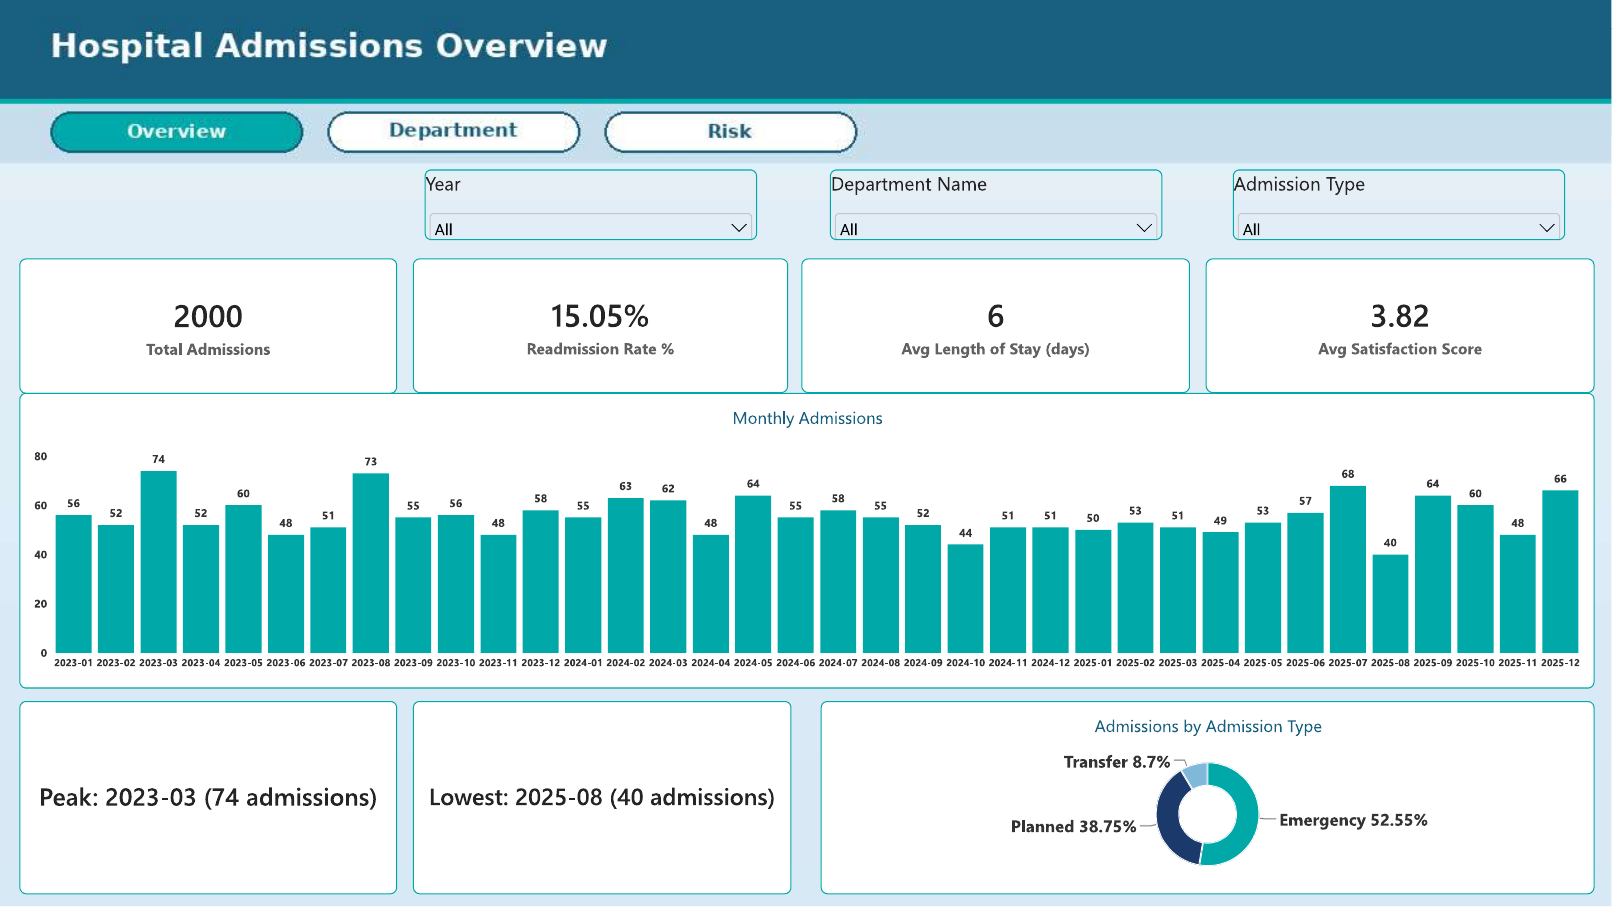

The page's visual inventory and layout, read from the dashboard file:
{"tool":"powerbi","page":{"name":"Overview","canvas":[1920,1080],"ordinal":0},"visuals":[{"type":"card","fields":{"Values":["Calculated_Admission_Table.Total Admissions"]},"box":[22.7,307,450.8,160.5],"z":0},{"type":"pageNavigator","box":[61.7,131.7,959.2,51.5],"z":1000},{"type":"card","fields":{"Values":["Calculated_Admission_Table.Avg Satisfaction"]},"box":[1436.7,306.7,463.1,160.5],"z":2000},{"type":"card","fields":{"Values":["Calculated_Admission_Table.Avg Length of Stay"]},"box":[955.1,306.7,463.1,160.5],"z":3000},{"type":"card","fields":{"Values":["Calculated_Admission_Table.Readmission Rate %"]},"box":[491.9,306.7,446.7,160.5],"z":4000},{"type":"clusteredColumnChart","title":"Monthly Admissions","fields":{"Category":["Date.Year Month"],"Y":["Calculated_Admission_Table.Total Admissions"]},"box":[22.6,467.2,1877.2,352],"z":5000},{"type":"slicer","title":"Admission Type","fields":{"Values":["Admissions.AdmissionType"]},"box":[1468.6,200.6,396.2,84.7],"z":7000},{"type":"donutChart","title":"Admissions by Admission Type","fields":{"Category":["Admissions.AdmissionType"],"Y":["CountNonNull(Admissions.AdmissionType)"]},"box":[977.7,833.6,922.1,230.5],"z":9000},{"type":"card","fields":{"Values":["Calculated_Admission_Table.Lowest Label"]},"box":[491.9,833.6,450.8,230.5],"z":10000},{"type":"card","fields":{"Values":["Calculated_Admission_Table.Peak Label"]},"box":[22.6,833.6,450.8,230.5],"z":11000},{"type":"slicer","title":"Year","fields":{"Values":["Date.Date.Variation.Date Hierarchy.Year"]},"box":[505.8,200.6,396.2,84.7],"z":11001},{"type":"slicer","title":"Department Name","fields":{"Values":["Departments.DepartmentName"]},"box":[989,200.6,396.2,84.7],"z":11002}]}

Visuals, with their boxes in screenshot pixels (x1, y1, x2, y2), scaled from the page's 1920x1080 canvas onto the 1612x907 screenshot:
card - Calculated_Admission_Table.Total Admissions: [19,258,398,393]
pageNavigator: [52,111,857,154]
card - Calculated_Admission_Table.Avg Satisfaction: [1206,258,1595,392]
card - Calculated_Admission_Table.Avg Length of Stay: [802,258,1191,392]
card - Calculated_Admission_Table.Readmission Rate %: [413,258,788,392]
"Monthly Admissions" clusteredColumnChart: [19,392,1595,688]
"Admission Type" slicer: [1233,168,1566,240]
"Admissions by Admission Type" donutChart: [821,700,1595,894]
card - Calculated_Admission_Table.Lowest Label: [413,700,791,894]
card - Calculated_Admission_Table.Peak Label: [19,700,397,894]
"Year" slicer: [425,168,757,240]
"Department Name" slicer: [830,168,1163,240]
